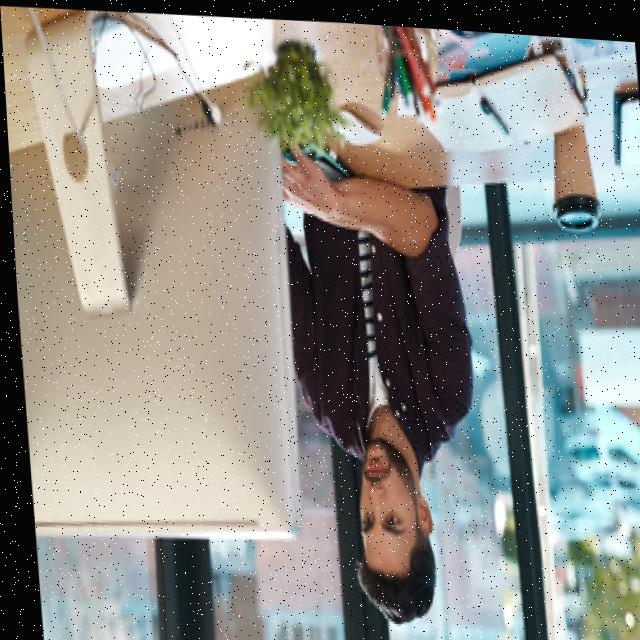desktop-person: (0, 0, 495, 640)
